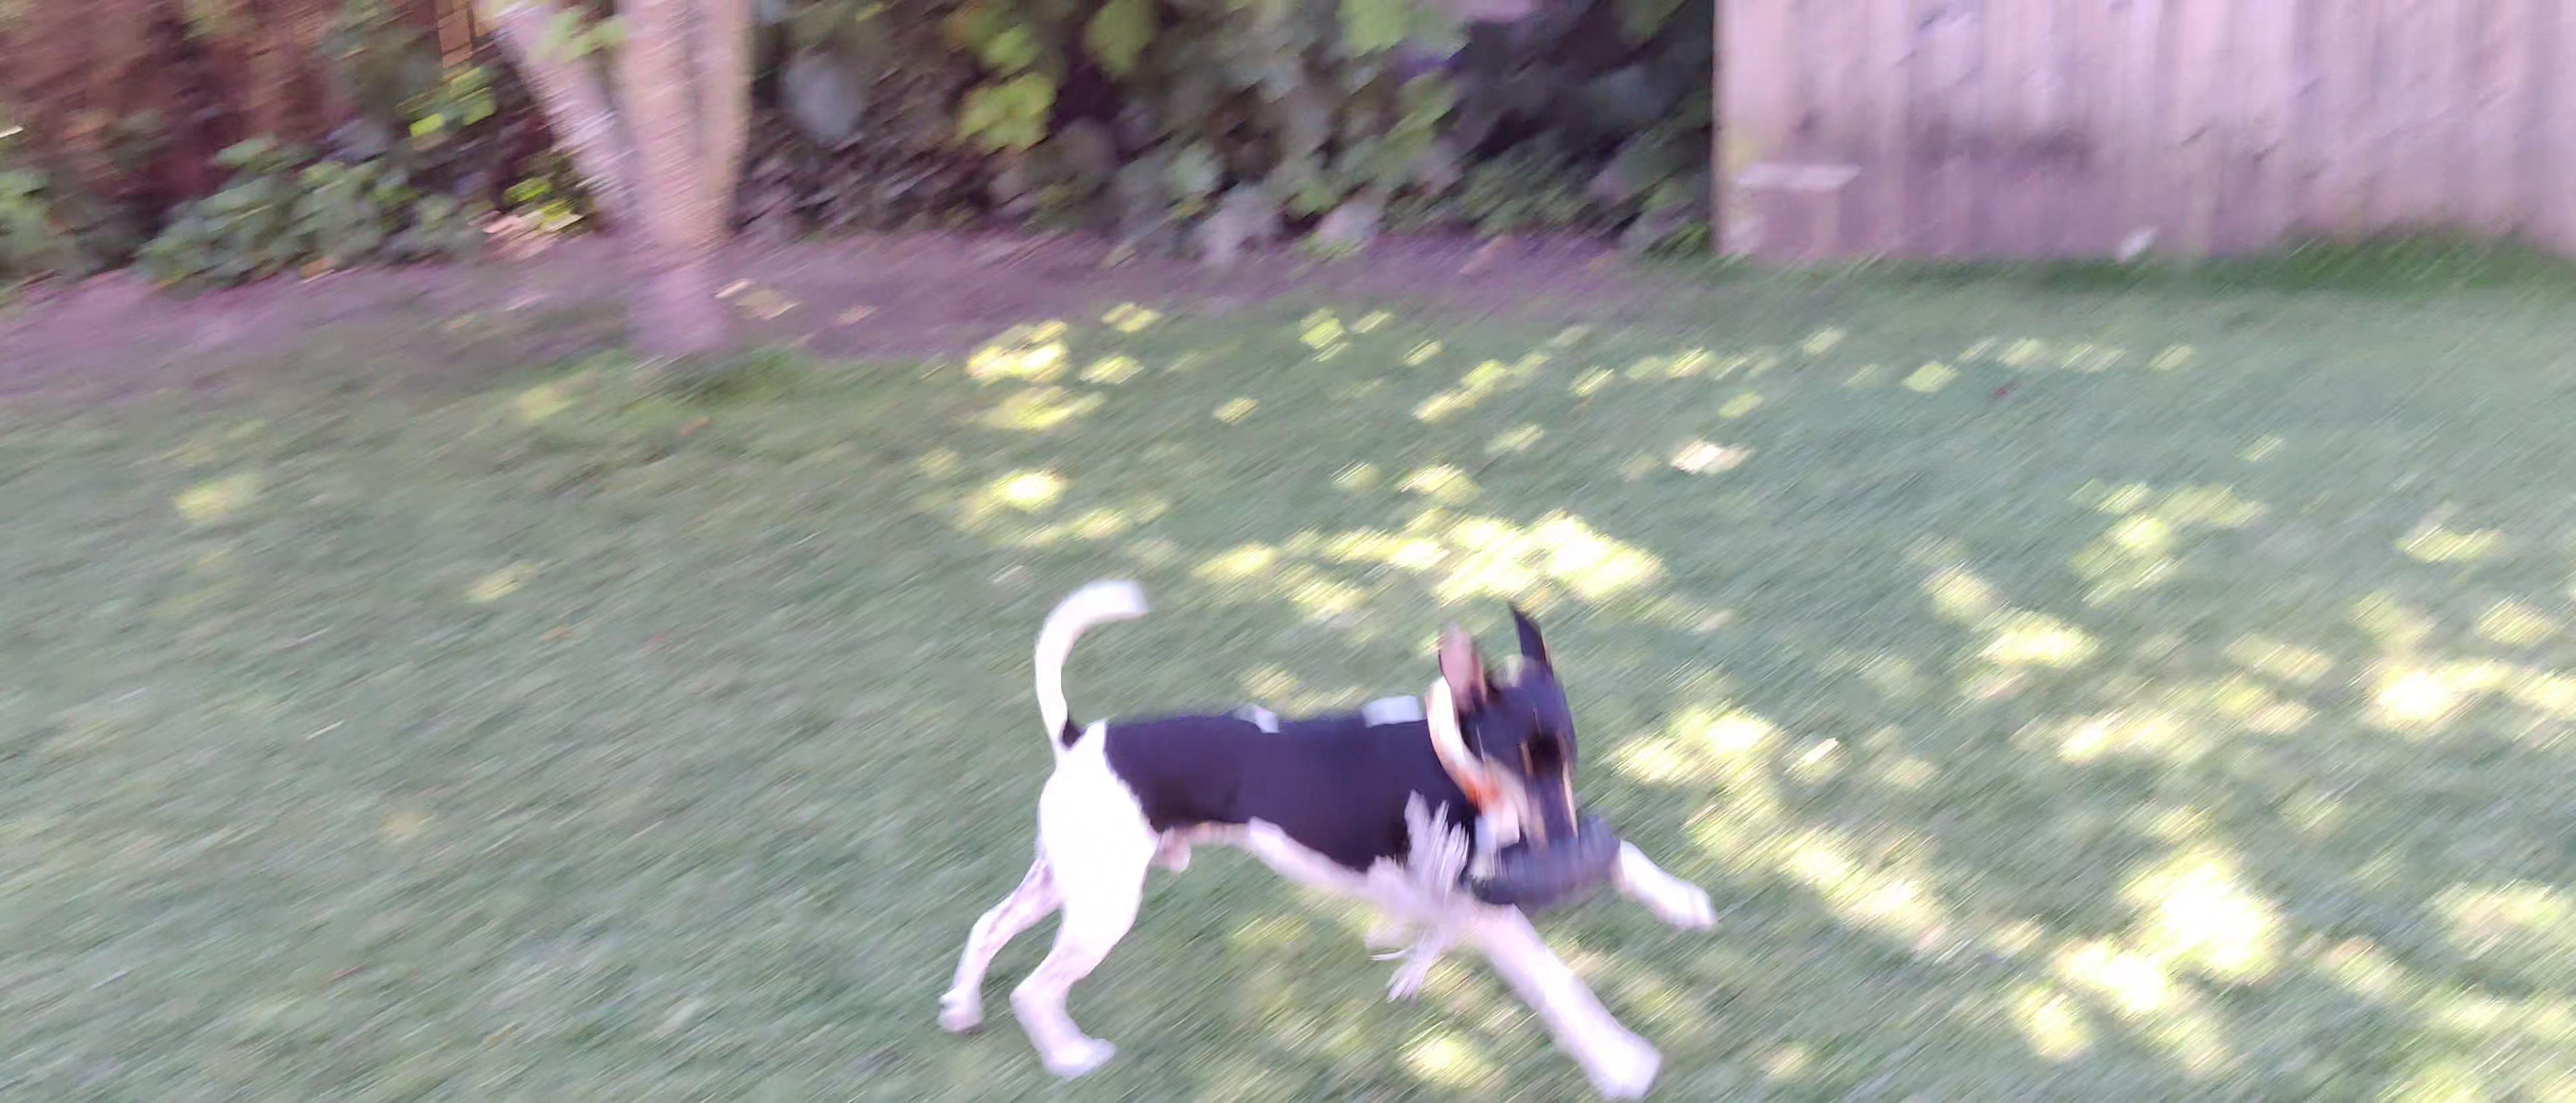Dog: (927, 556, 1722, 1103)
